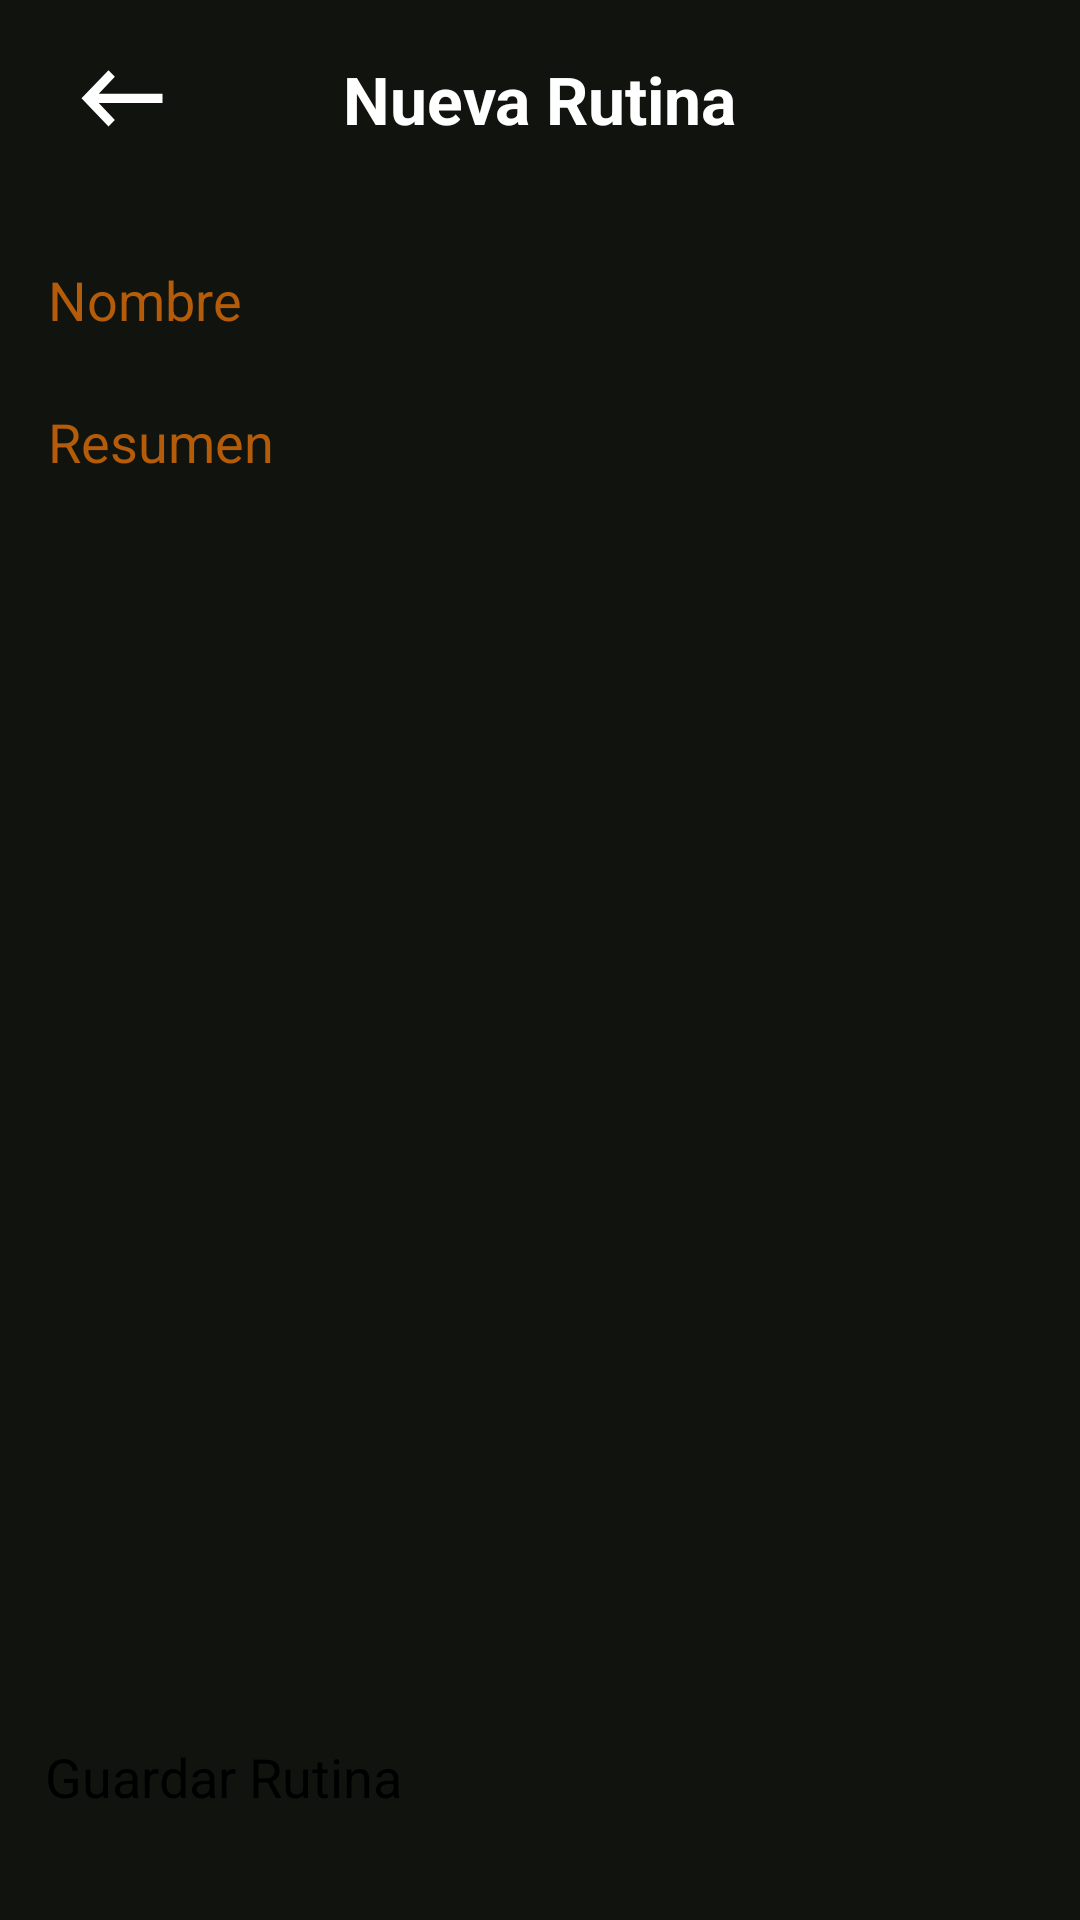

Screen size 1080 x 1920. Icon name, then its center in pixels as (x=x, y=y):
flecha atras: (x=122, y=98)
